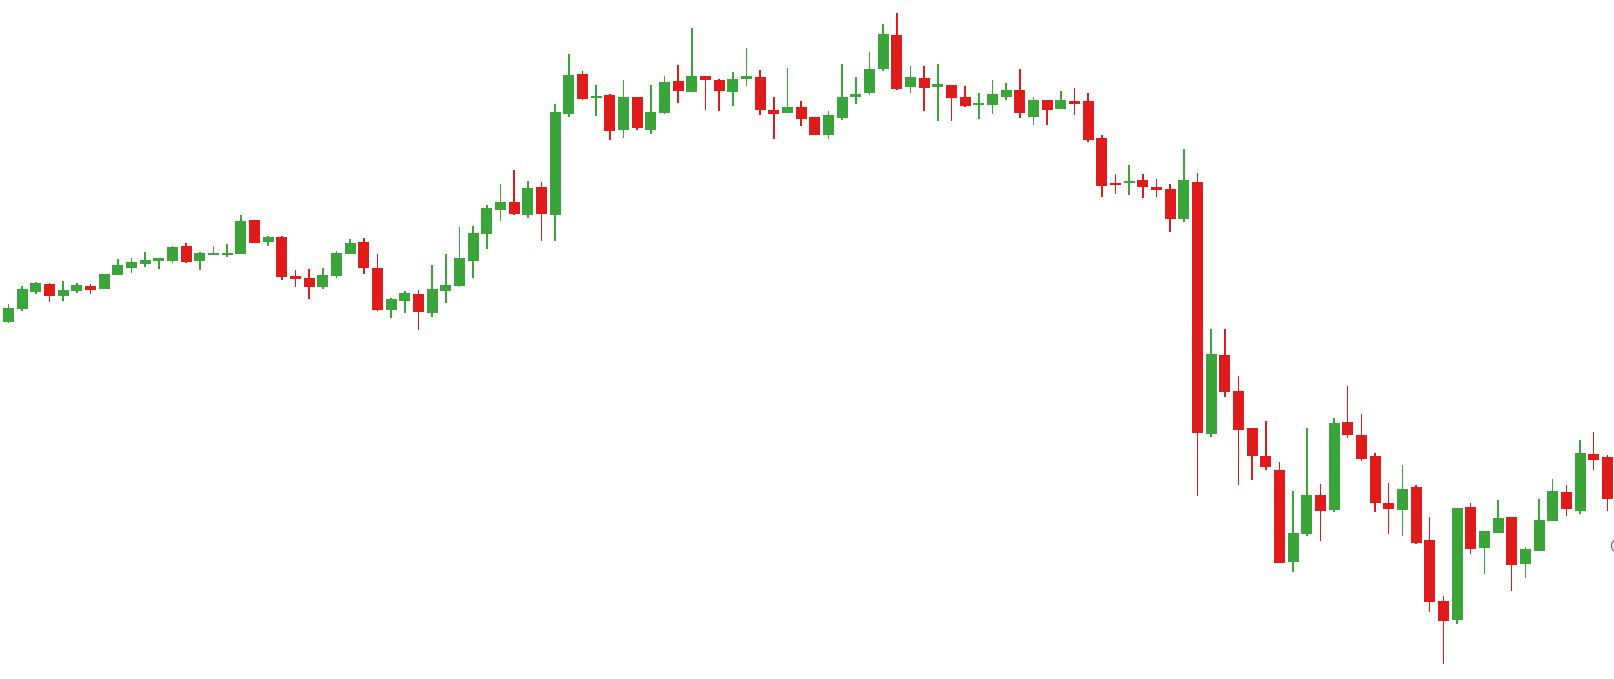buy: (1287, 484, 1466, 667), (302, 255, 411, 320)
sell: (685, 14, 905, 109)
